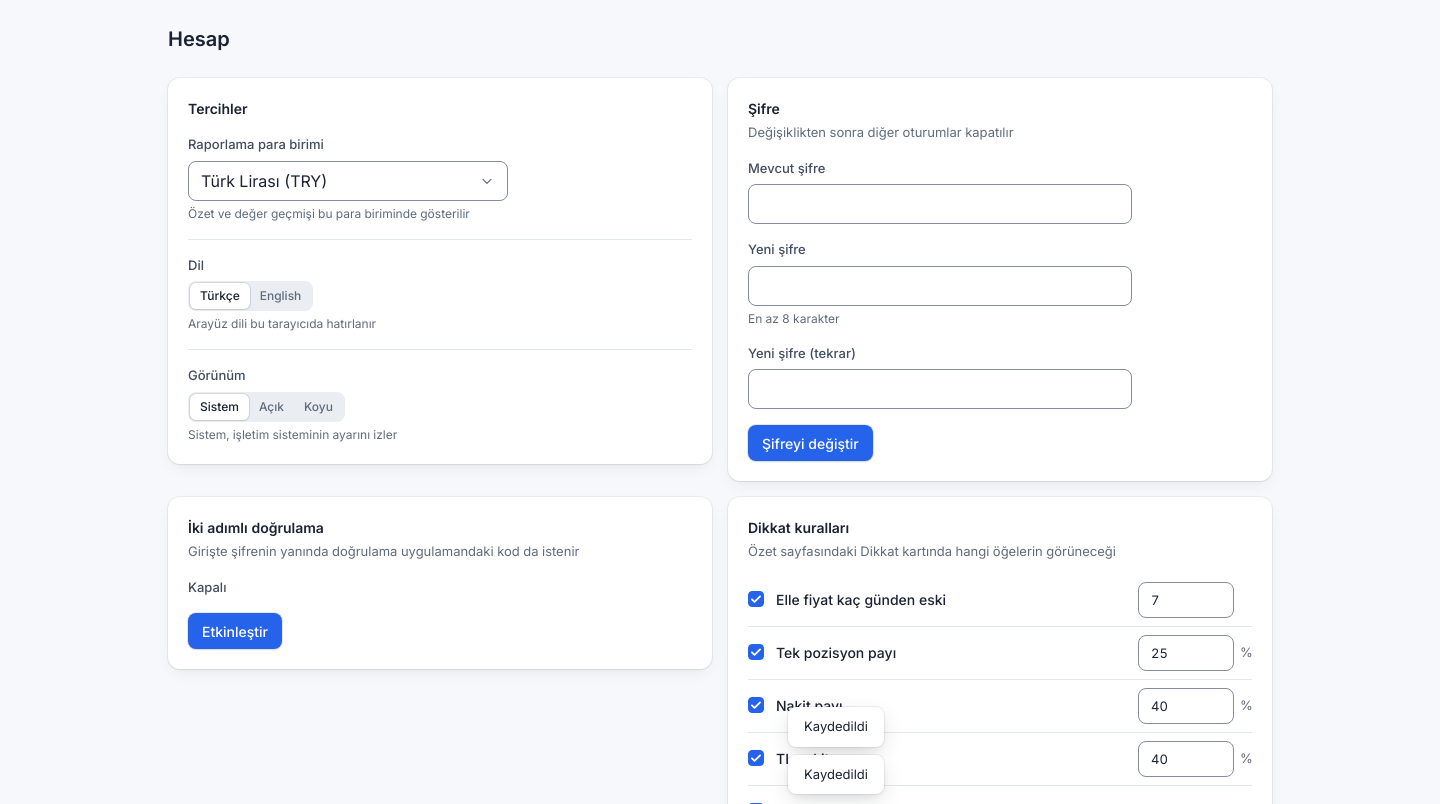
AccountPage › shows the translated error message under the field when the save fails
Click the dropdown named "Raporlama para birimi". click: (264, 180)
box: x1=188 y1=160 x2=508 y2=200
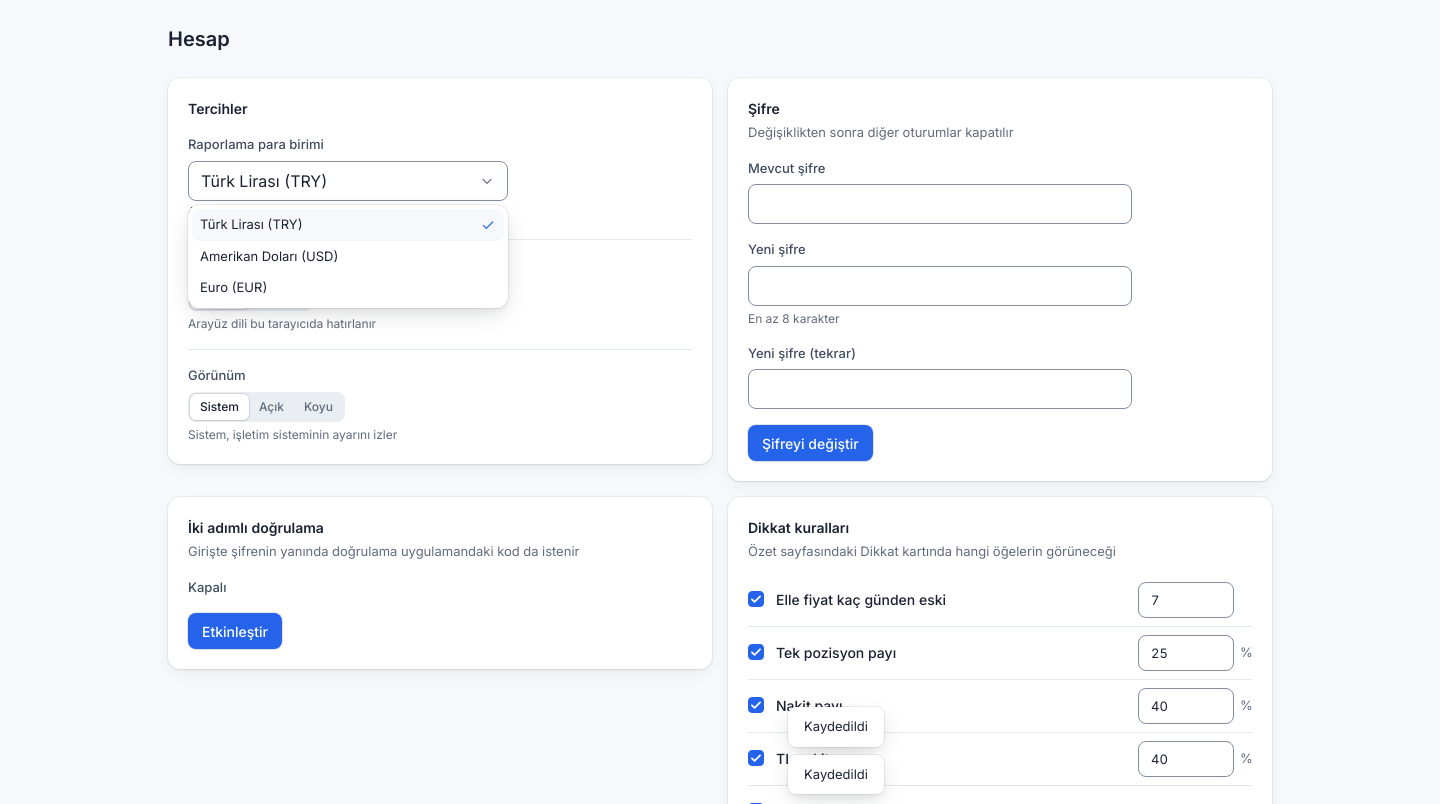
Expected: the list is shown, x1=192 y1=209 x2=504 y2=304
Click the option "Euro (EUR)". click: (234, 287)
box: x1=200 y1=279 x2=268 y2=295
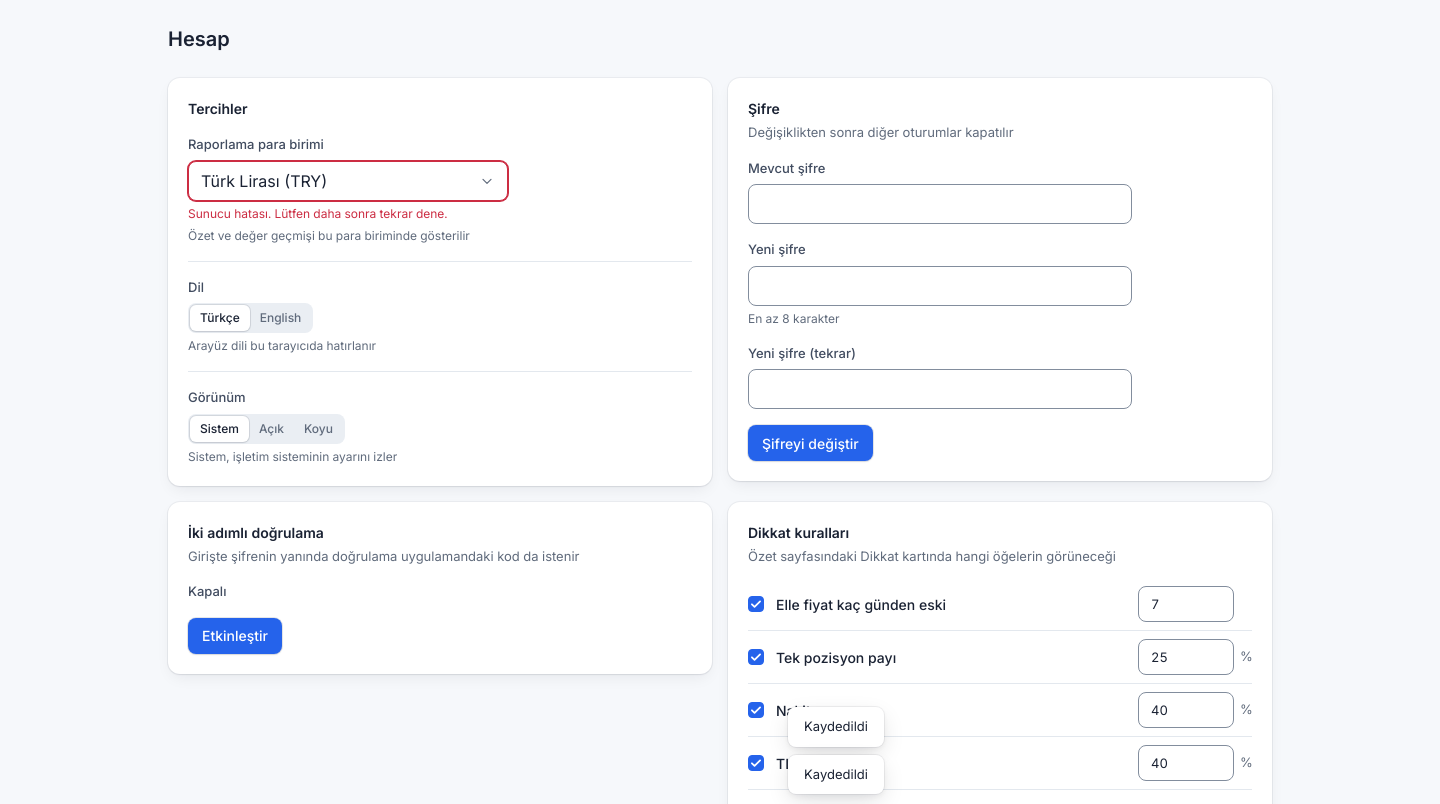
Expected: the list "Türk Lirası (TRY) Amerikan Doları (USD) Euro (EUR)" is gone
Expected: the text "Sunucu hatası. Lütfen daha sonra tekrar dene." is shown, x1=188 y1=206 x2=448 y2=220
